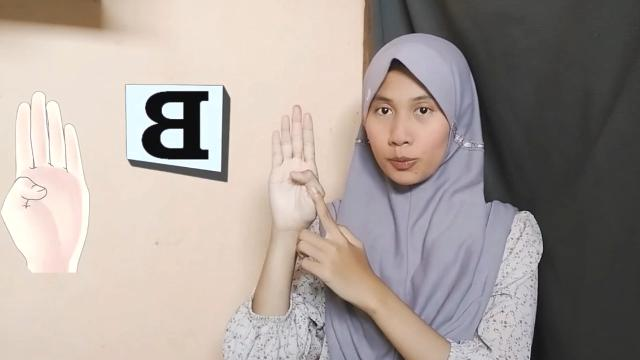B: (267, 104, 323, 232)
